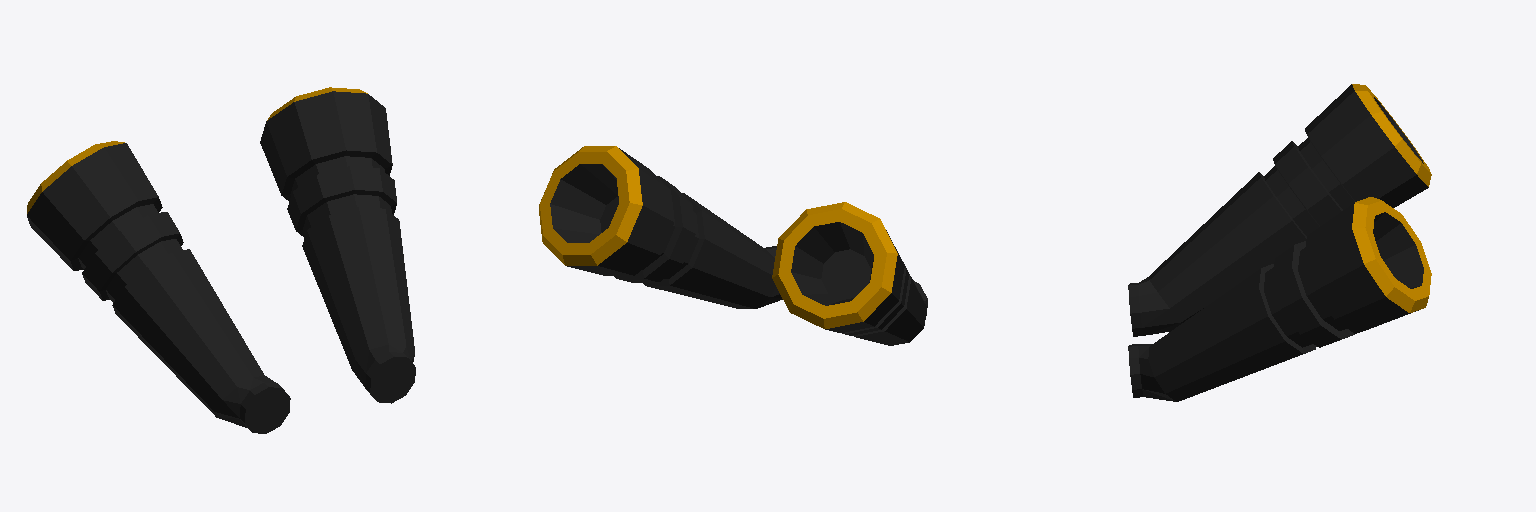
Rendered from Catalysts2.obj.
3 views of the same model, side by side, from view 1: azimuth 30°, elevation 25°; view 2: azimuth 150°, elevation 25°; view 3: azimuth 270°, elevation 25° (orthographic).
Parts seen in each view (by area): view 1: Catalysts2_Cylinder.017; view 2: Catalysts2_Cylinder.017; view 3: Catalysts2_Cylinder.017.
Boxes of the visible parts, <box> form: Catalysts2_Cylinder.017: <box>27,87,415,433</box>; Catalysts2_Cylinder.017: <box>539,146,927,345</box>; Catalysts2_Cylinder.017: <box>1128,84,1431,401</box>.
Size of the model in its own units: 5.28 by 3.13 by 3.93.